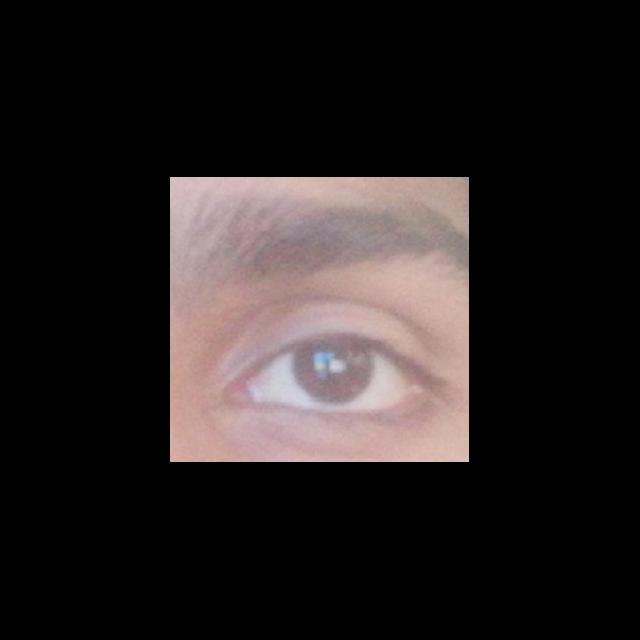eye: (255, 337, 412, 412)
iris: (292, 338, 373, 405)
